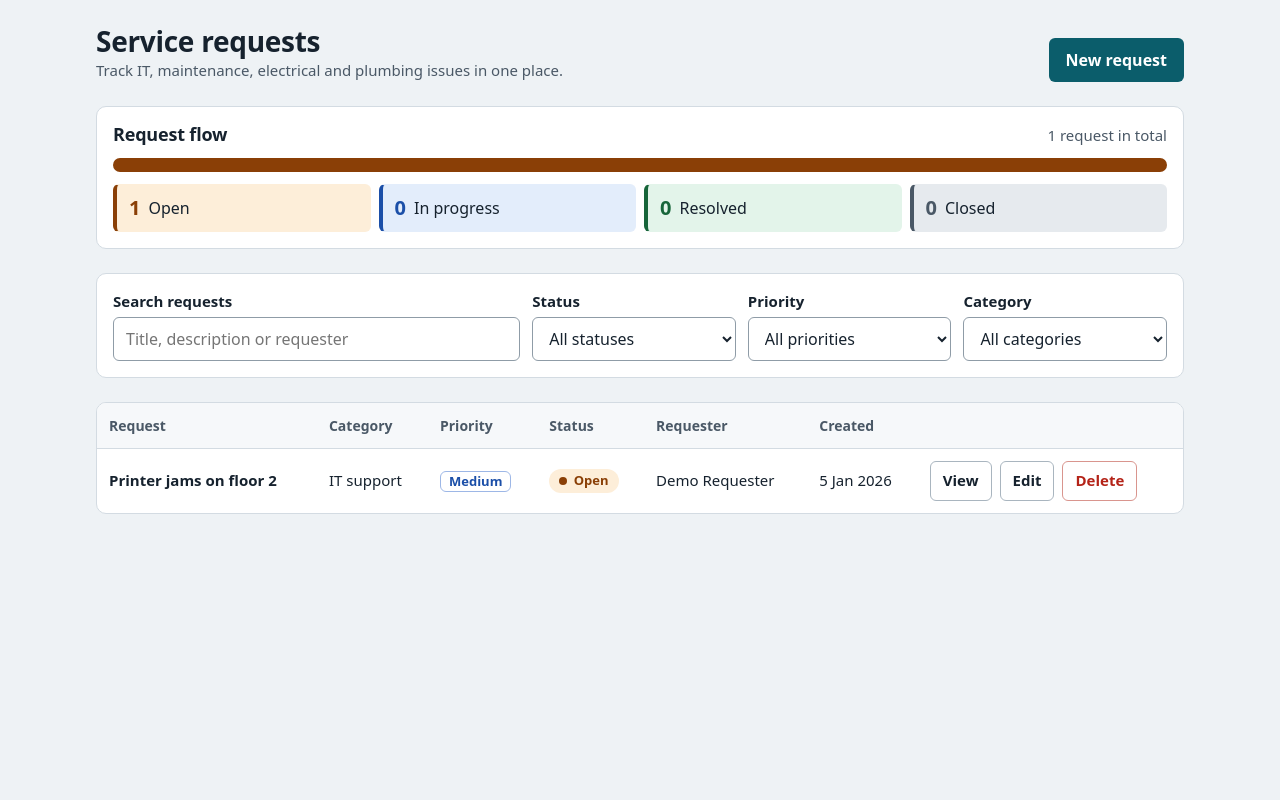
Test: create › keeps the typed input and shows server field errors when the API rejects the form
Expected: the column heading "Printer jams on floor 2" is shown, top-left (97, 448), bottom-right (317, 512)
Click the button "New request" at (1116, 60), box top-left (1049, 38), bottom-right (1184, 82)
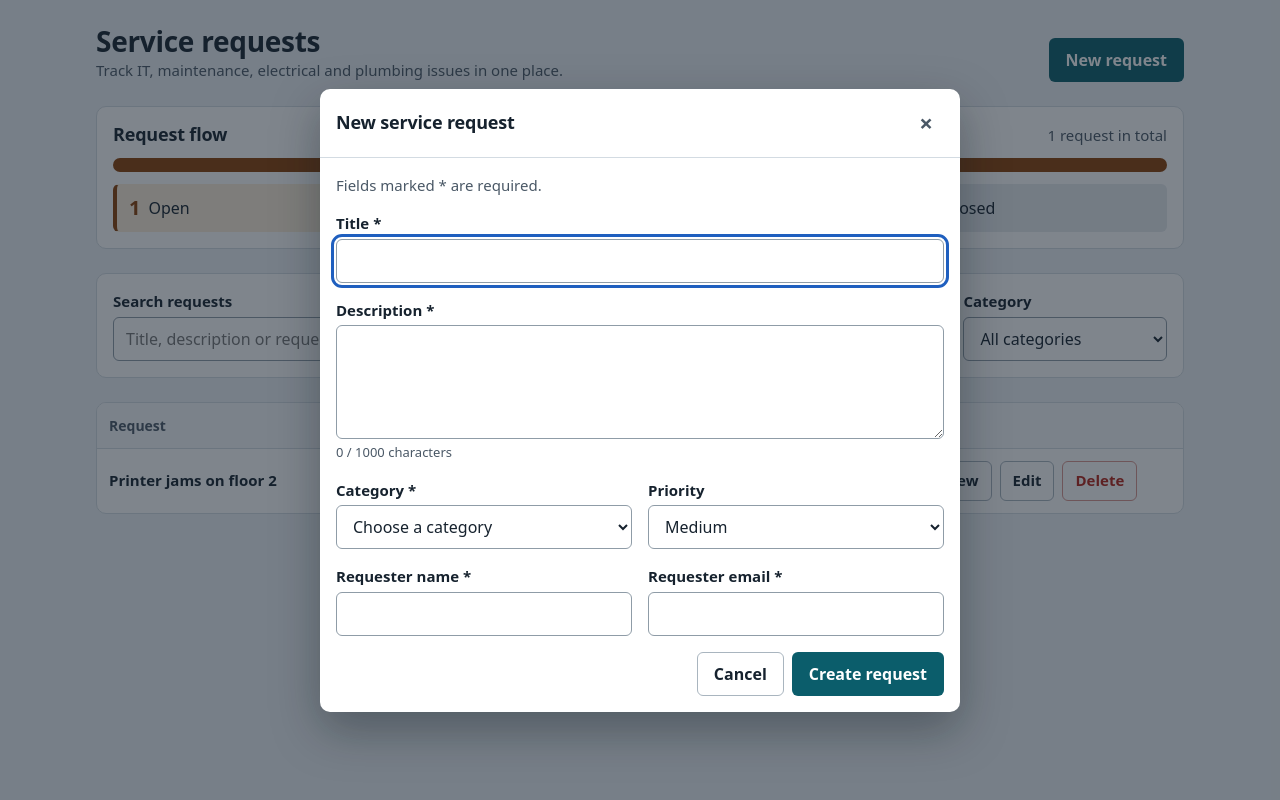
Type "Projector will not turn on" into the field labelled "Title *" at (640, 260), box top-left (336, 238), bottom-right (944, 282)
Type "The projector in room B shows no signal." into the text box labelled "Description *" at (640, 382), box top-left (336, 325), bottom-right (944, 439)
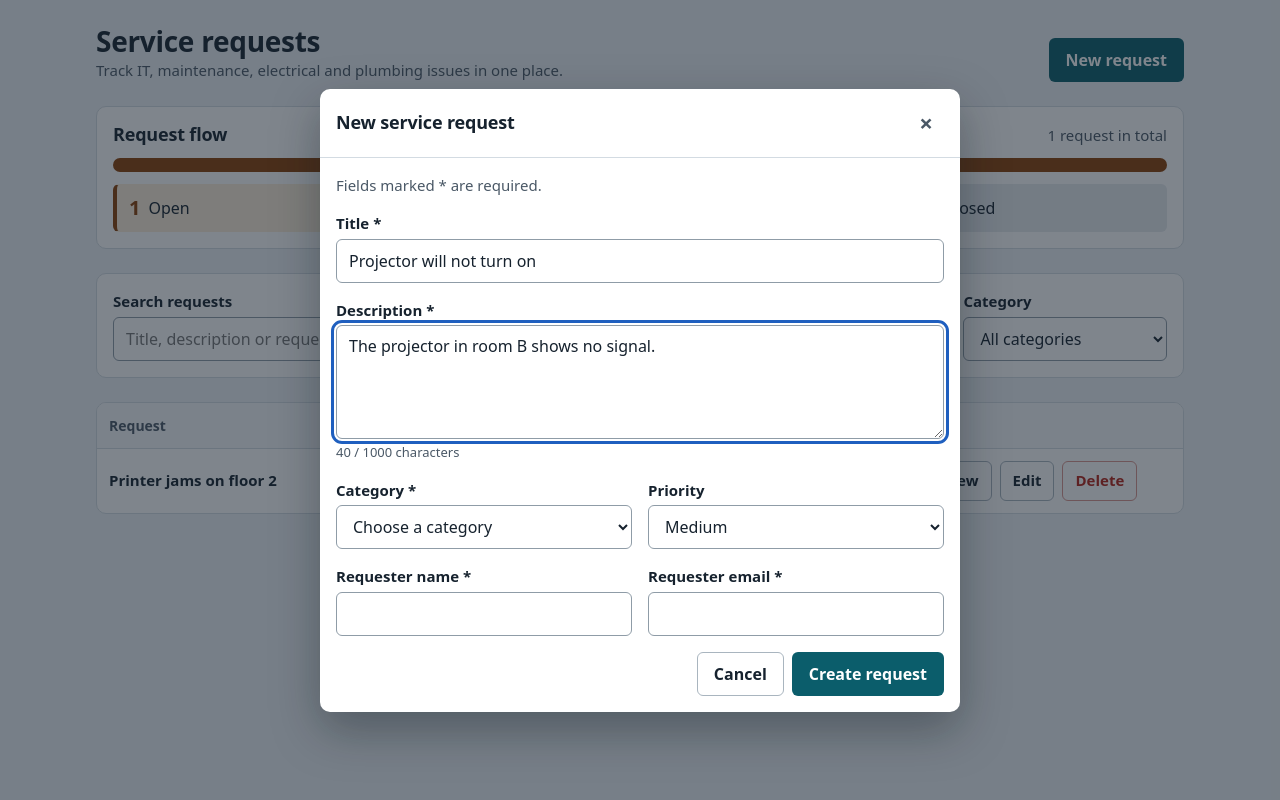
Select "IT support" in the dropdown labelled "Category *" at (484, 527), box top-left (336, 505), bottom-right (632, 549)
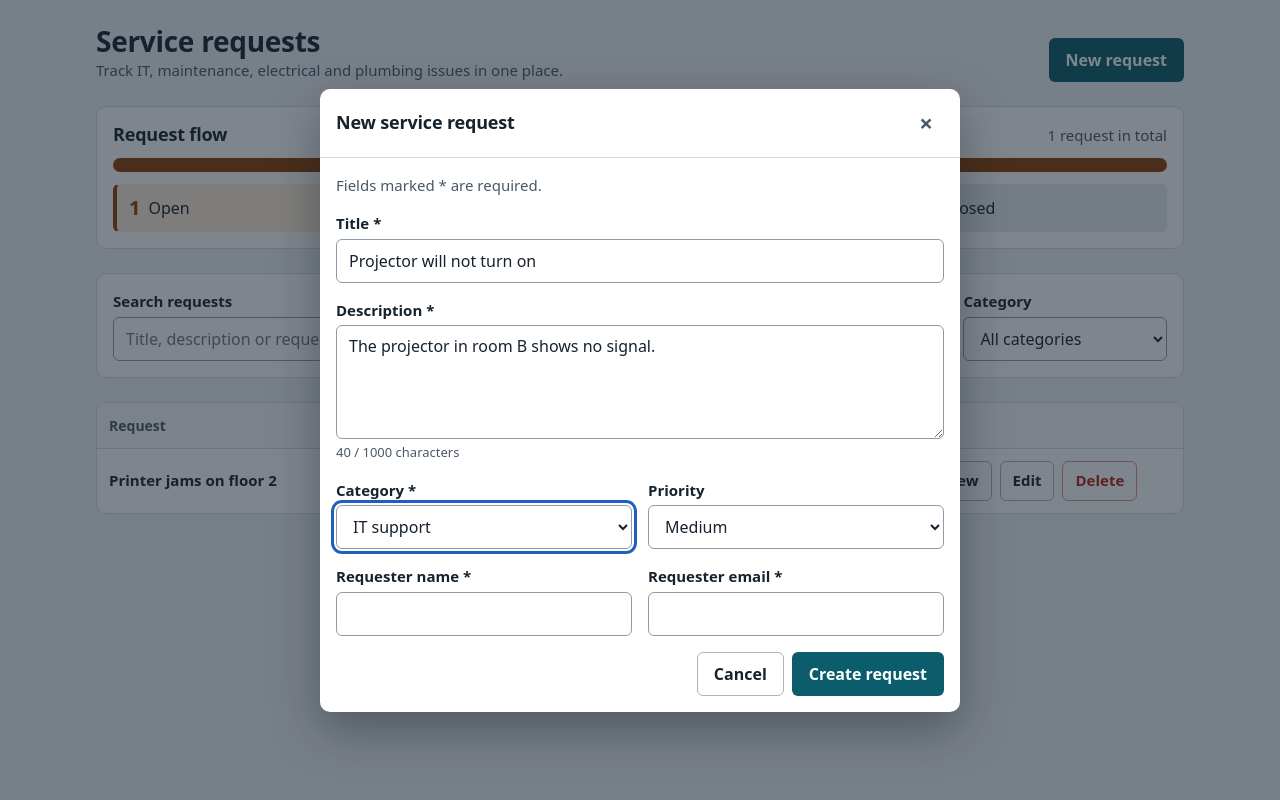
Type "Demo Requester" into the field labelled "Requester name *" at (484, 614), box top-left (336, 592), bottom-right (632, 636)
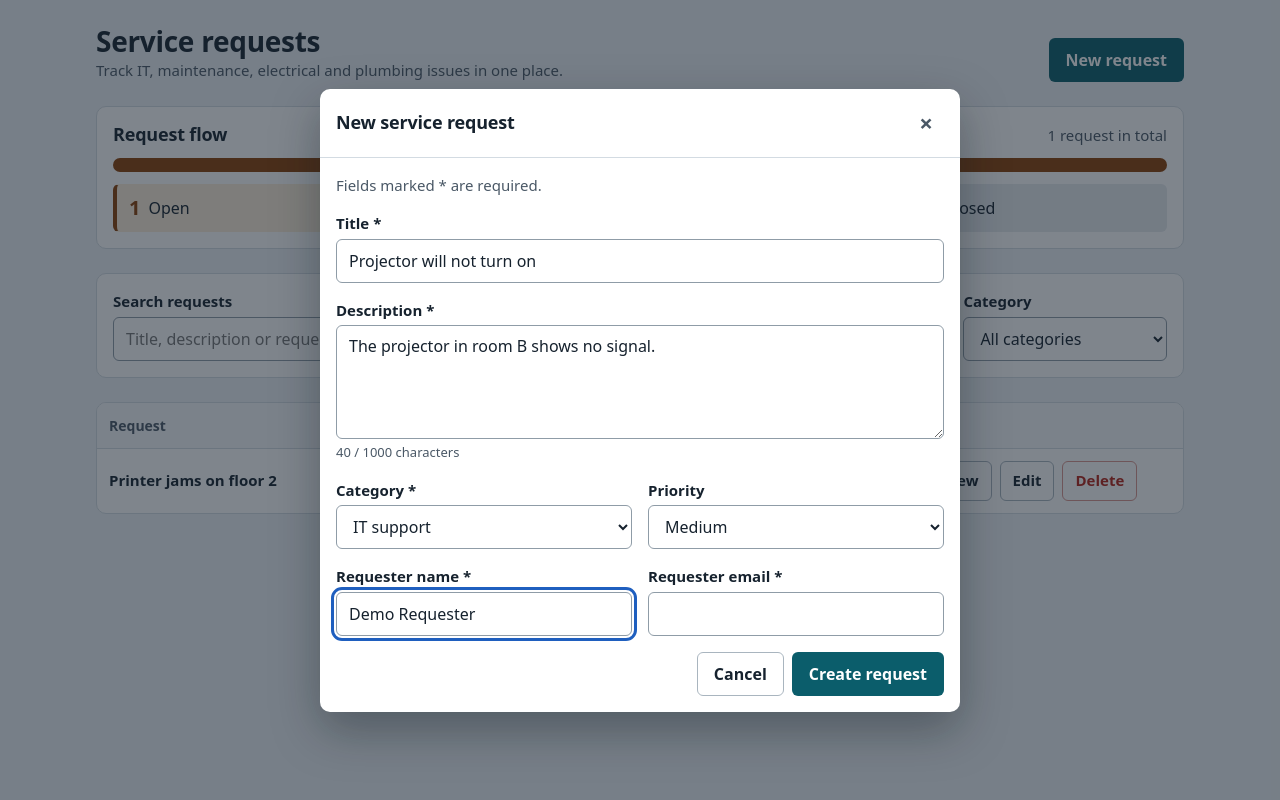
Type "a@b.co" into the field labelled "Requester email *" at (796, 614), box top-left (648, 592), bottom-right (944, 636)
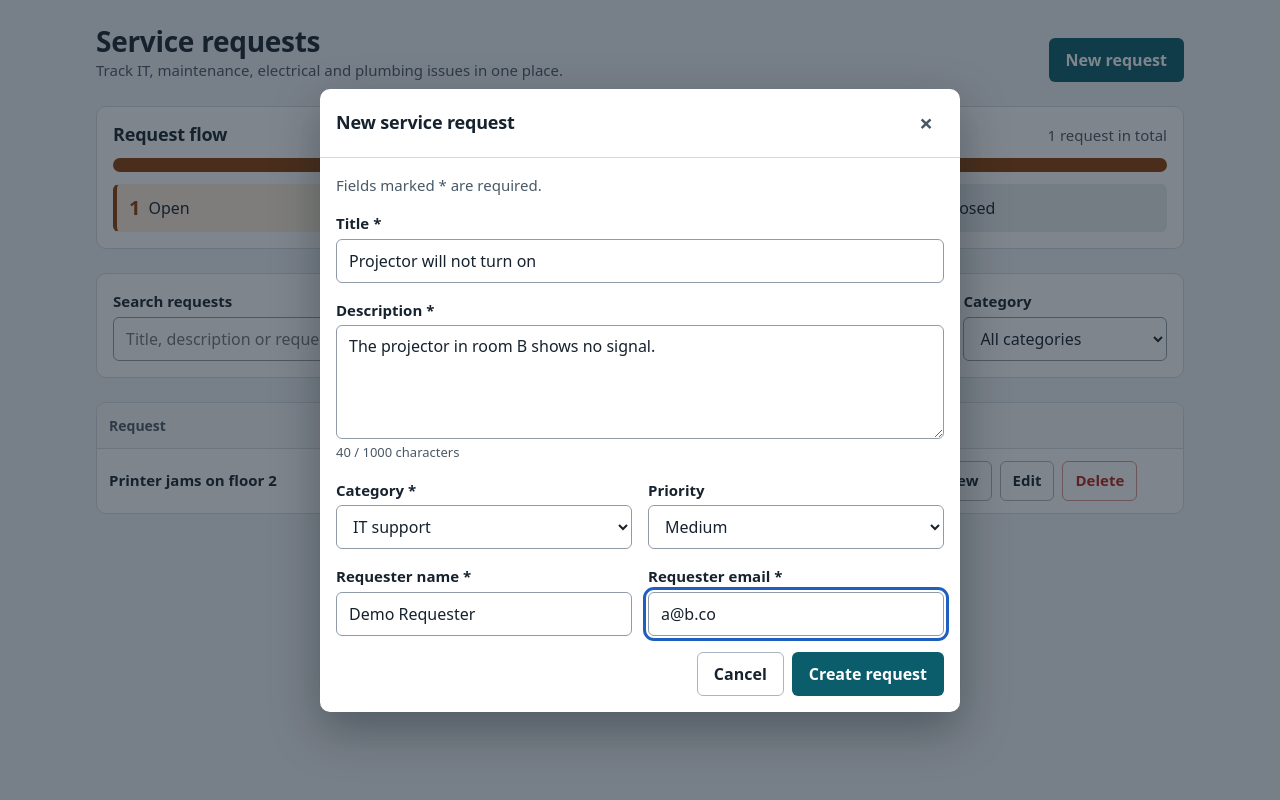
Click the button "Create request" at (868, 674), box top-left (792, 652), bottom-right (944, 696)
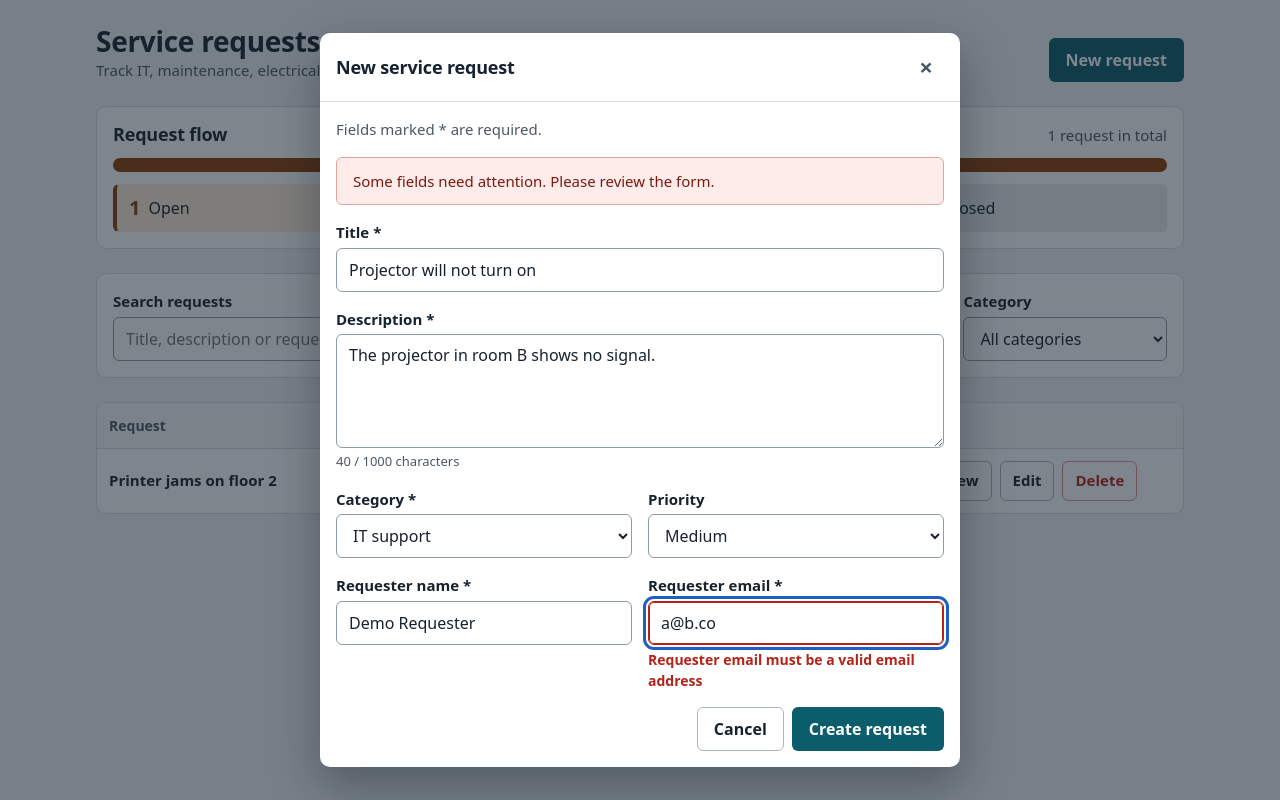
Expected: the dialog is shown, top-left (320, 33), bottom-right (960, 767)
Expected: the text "Requester email must be a valid email address" is shown, top-left (648, 649), bottom-right (944, 691)
